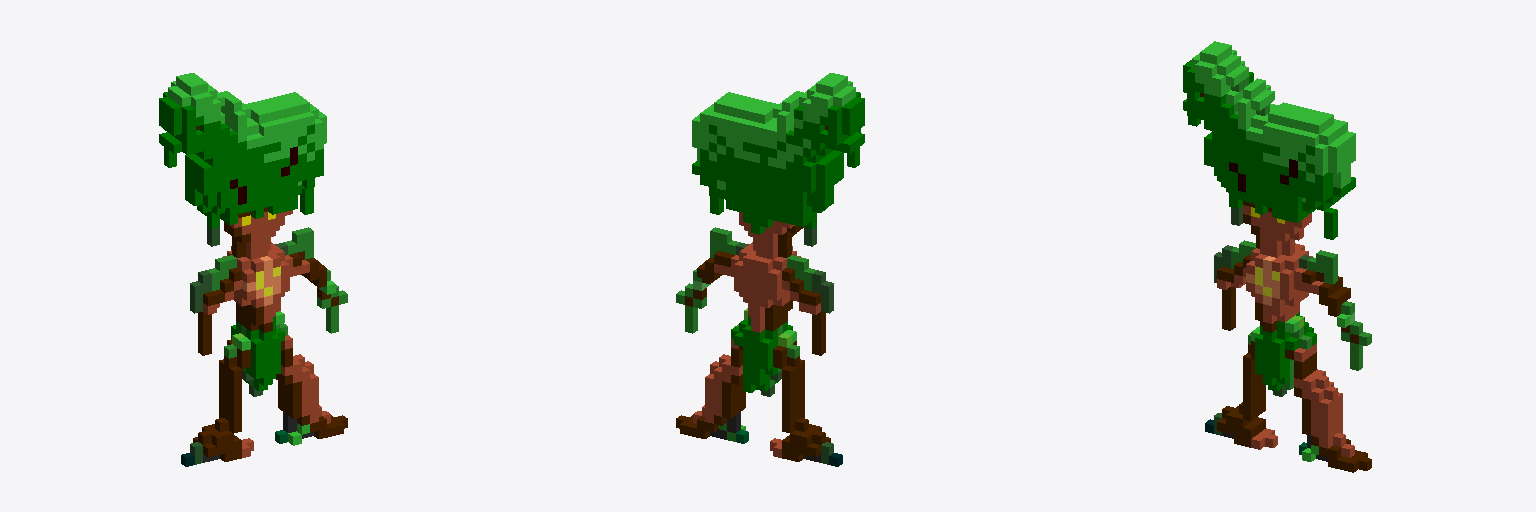
The picture shows the model from 3 angles: view 1: azimuth 30°, elevation 25°; view 2: azimuth 150°, elevation 25°; view 3: azimuth 330°, elevation 25°; orthographic projection.
Bounding box in the file's own units: 21 × 43 × 5.
Materials: 1 (1 with a texture image).